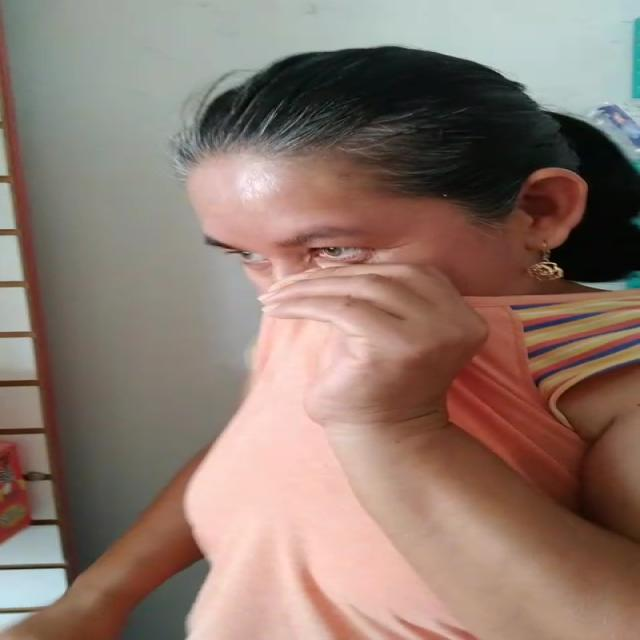8_ropa_rostro: (254, 253, 542, 409)
